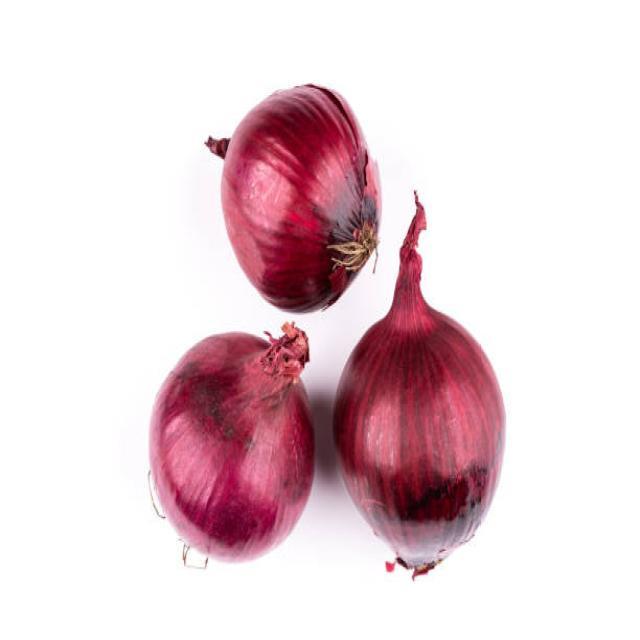onion: (331, 311, 509, 568), (141, 329, 321, 563), (198, 85, 381, 313)
